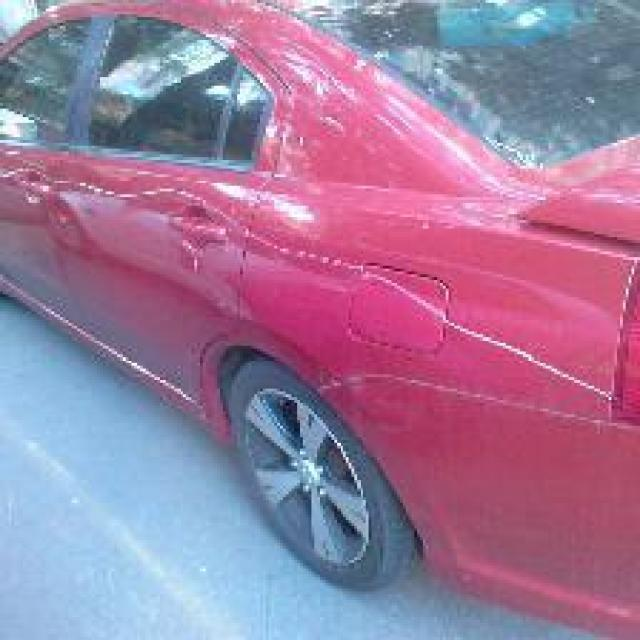damaged: (0, 160, 366, 312), (308, 268, 623, 434)
